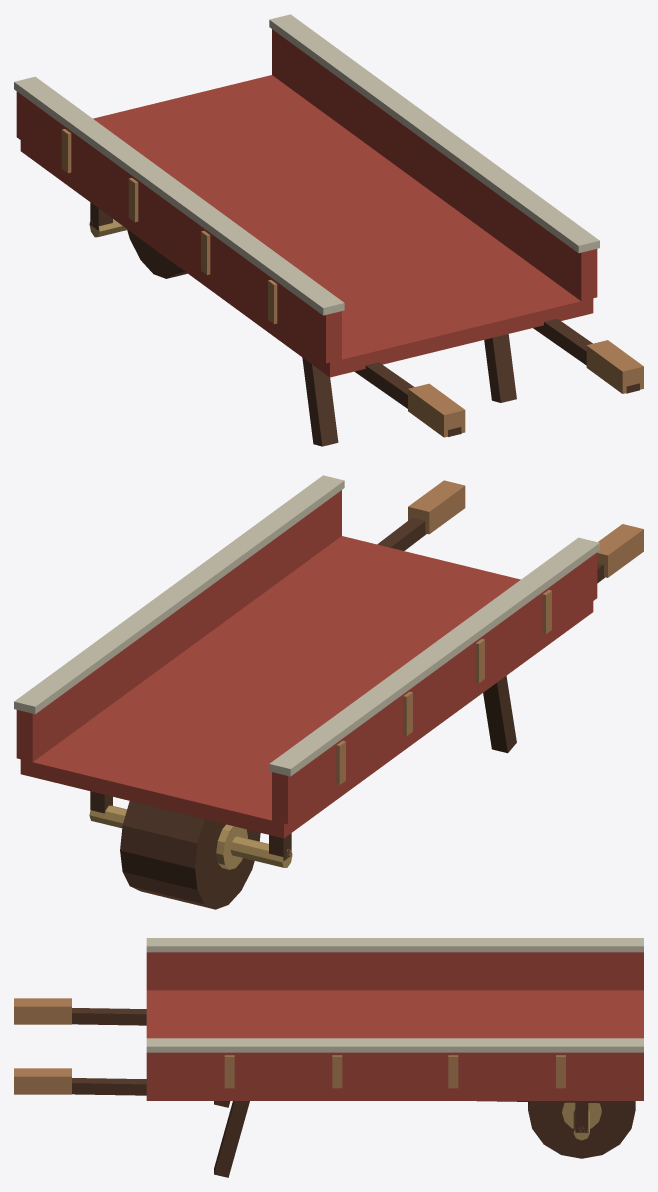
File: Backyard_WheelbarrowChute_Standard.glb
3 views of the same model, one above another, from view 1: azimuth 30°, elevation 25°; view 2: azimuth 150°, elevation 25°; view 3: azimuth 270°, elevation 25° (orthographic). The views are drawn at different scales.
Parts seen in each view (by area): view 1: Backyard_WheelbarrowChute_Standard; view 2: Backyard_WheelbarrowChute_Standard; view 3: Backyard_WheelbarrowChute_Standard.
Part boxes in pixels (x1,y1,x2,y2): Backyard_WheelbarrowChute_Standard: (14, 14, 643, 446); Backyard_WheelbarrowChute_Standard: (14, 475, 643, 909); Backyard_WheelbarrowChute_Standard: (14, 938, 643, 1177).
Bounding box in the file's own units: 3.12 × 2.02 × 7.6.
